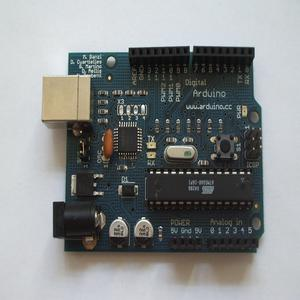duino: (34, 30, 262, 261)
